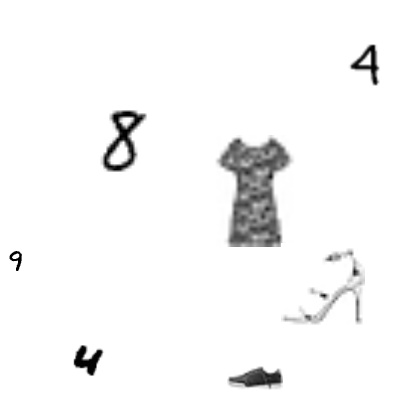0: (147, 78, 169, 100)
2: (24, 288, 52, 316)
3: (70, 369, 112, 411)
8: (250, 75, 362, 187)
9: (242, 1, 264, 23)
Ankle_boot: (246, 224, 274, 252)
Sandal: (357, 267, 399, 309)
